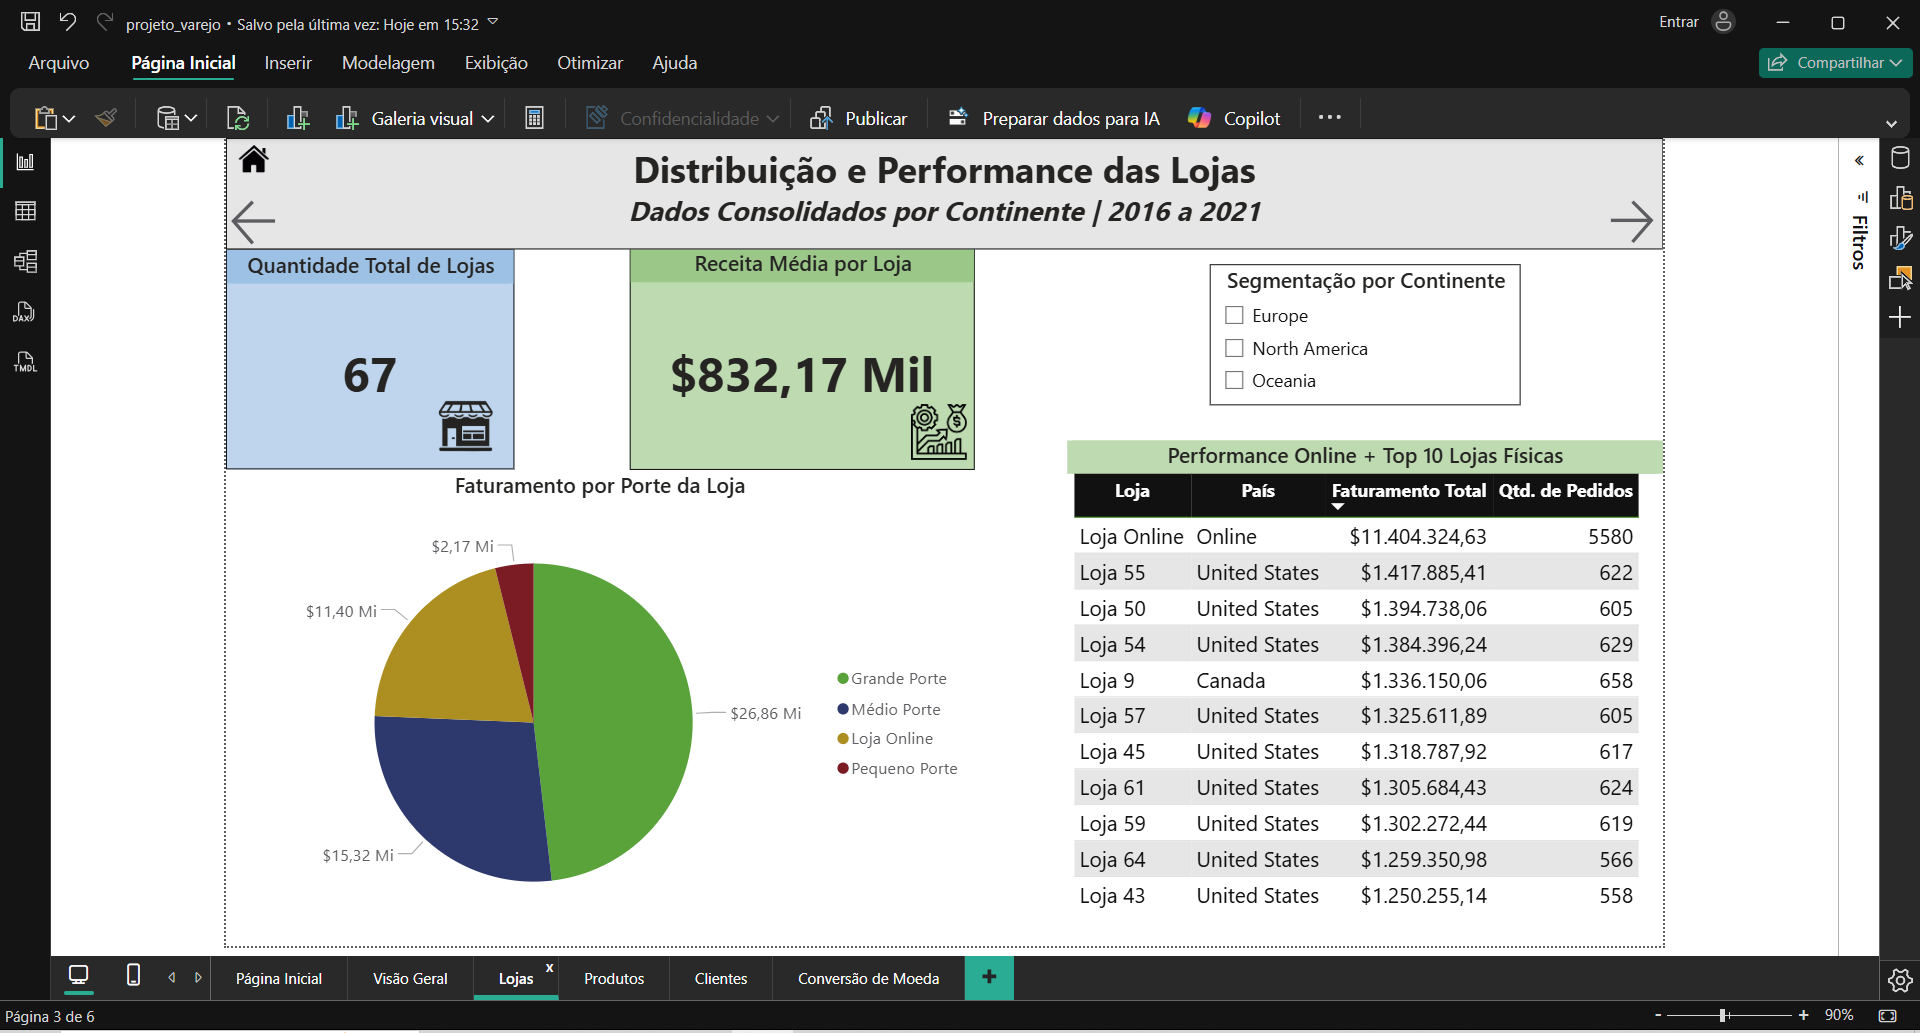

The dashboard page shown, as its layout file describes it:
{"tool":"powerbi","page":{"name":"Lojas","canvas":[1280,720],"ordinal":2},"visuals":[{"type":"card","title":"Quantidade Total de Lojas","fields":{"Values":["Medidas.qtd_loja"]},"box":[0,99.6,256.8,196.2],"z":0},{"type":"card","title":"Receita Média por Loja","fields":{"Values":["Medidas.receita_loja"]},"box":[359.2,98.1,307.3,197.7],"z":1000},{"type":"tableEx","title":"Performance Online + Top 10 Lojas Físicas ","fields":{"Values":["dLojas.nome_loja","dLojas.pais","Medidas.receita_loja","Medidas.qtd_pedidos"]},"box":[748.8,269.8,530.9,450.1],"z":2000},{"type":"pieChart","title":"Faturamento por Porte da Loja","fields":{"Category":["dLojas.tamanho_loja"],"Y":["Medidas.receita_total_USD"]},"box":[0,295.7,666.3,424.5],"z":3000},{"type":"textbox","box":[0,0,1280,99.6],"z":4000},{"type":"slicer","title":"Segmentação por Continente","fields":{"Values":["dClientes.continente"]},"box":[875.8,112.5,277,125.5],"z":5000},{"type":"image","box":[604.9,228.2,61.4,67.5],"z":5001},{"type":"image","box":[170.6,218.4,85.9,77.3],"z":5002},{"type":"actionButton","box":[1227,50.3,52.8,49.1],"z":5003},{"type":"actionButton","box":[0,50.3,52.8,50.3],"z":5004},{"type":"image","box":[0,0,50.3,36.8],"z":5005}]}

Visuals, with their boxes on the page's 1280x720 design canvas (x1, y1, x2, y2). These are canvas units, not pixel positions in the 1920x1033 screenshot, which may show the page scaled, cropped or inside an application window:
"Quantidade Total de Lojas" card: l=0, t=100, r=257, b=296
"Receita Média por Loja" card: l=359, t=98, r=666, b=296
"Performance Online + Top 10 Lojas Físicas " tableEx: l=749, t=270, r=1280, b=720
"Faturamento por Porte da Loja" pieChart: l=0, t=296, r=666, b=720
textbox: l=0, t=0, r=1280, b=100
"Segmentação por Continente" slicer: l=876, t=112, r=1153, b=238
image: l=605, t=228, r=666, b=296
image: l=171, t=218, r=256, b=296
actionButton: l=1227, t=50, r=1280, b=99
actionButton: l=0, t=50, r=53, b=101
image: l=0, t=0, r=50, b=37
